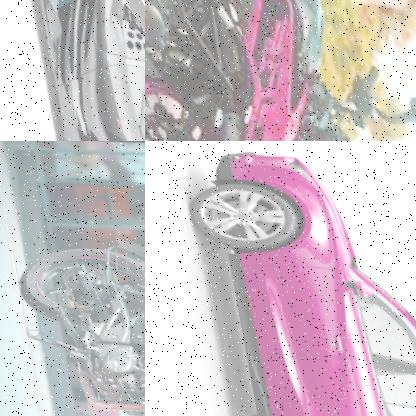bike: (145, 0, 416, 141), (3, 208, 145, 416)
car: (168, 141, 416, 416), (4, 0, 145, 141)
